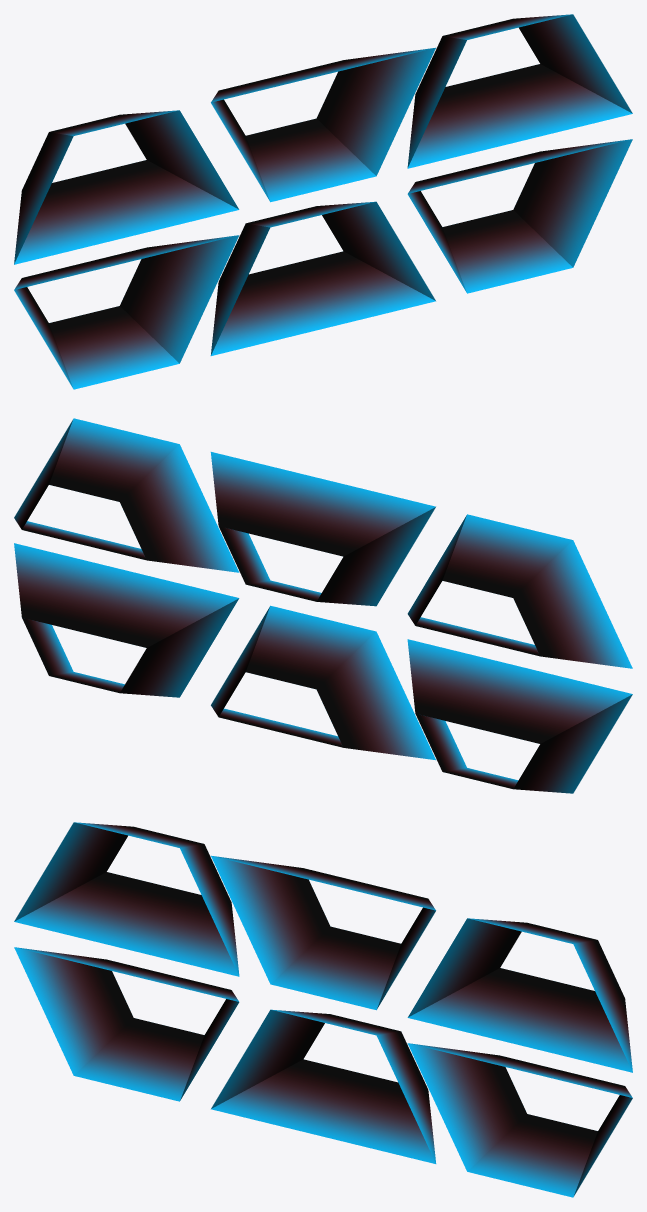
File: fenrir_engine_jets_2.FBX
3 renders of one model, top to bottom at view 1: azimuth 30°, elevation 25°; view 2: azimuth 150°, elevation 25°; view 3: azimuth 330°, elevation 25°, orthographic.
Parts seen in each view (by area): view 1: fenrir_engine_jets_2; view 2: fenrir_engine_jets_2; view 3: fenrir_engine_jets_2.
Boxes of the visible parts, x1,y1,x2,y2 form: fenrir_engine_jets_2: (14,14,632,389); fenrir_engine_jets_2: (14,418,632,793); fenrir_engine_jets_2: (14,822,632,1197).
Bounding box in the file's own units: 230 × 90.2 × 27.35.
Materials: 1 (1 with a texture image).
